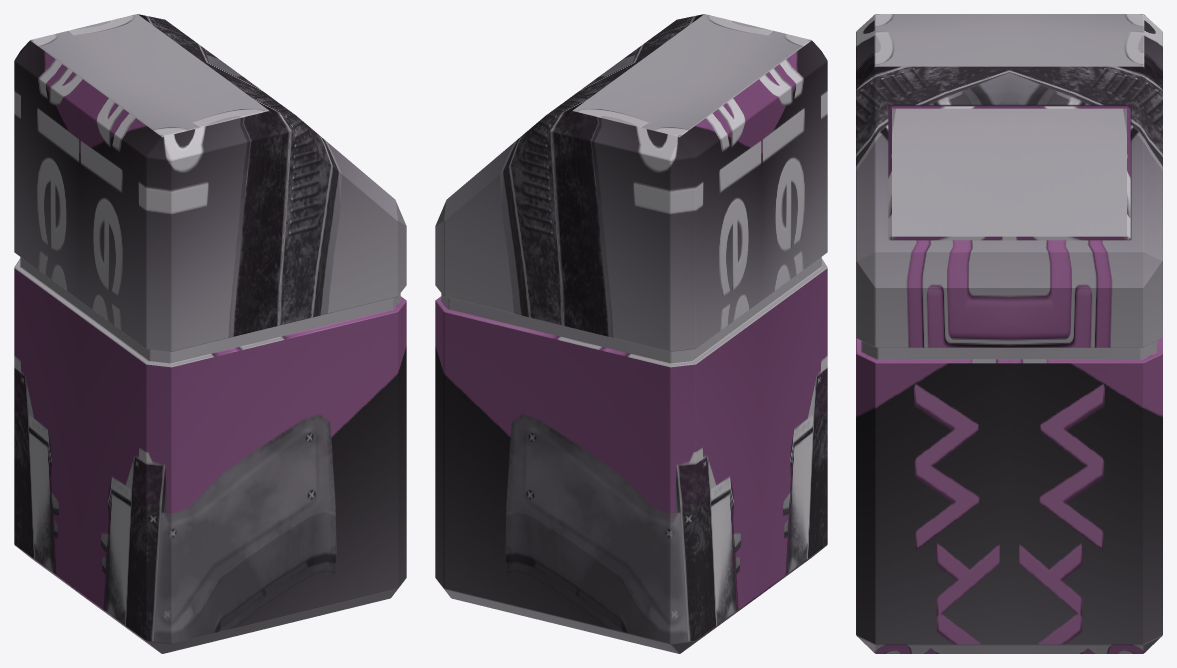
Rendered from SM_PlasticTrashCan.fbx.
3 views of the same model, side by side, from view 1: azimuth 30°, elevation 25°; view 2: azimuth 150°, elevation 25°; view 3: azimuth 270°, elevation 25° (orthographic).
Visible parts, largest first — view 1: Trashcan Base; view 2: Trashcan Base; view 3: Trashcan Base, Trashcan - lid.
Part boxes in pixels (x1,y1,x2,y2): Trashcan Base: (14,14,406,653); Trashcan Base: (435,14,827,653); Trashcan Base: (856,14,1162,653); Trashcan - lid: (888,106,1130,240).
Size of the model in its own units: 42.41 by 42.41 by 80.39.
